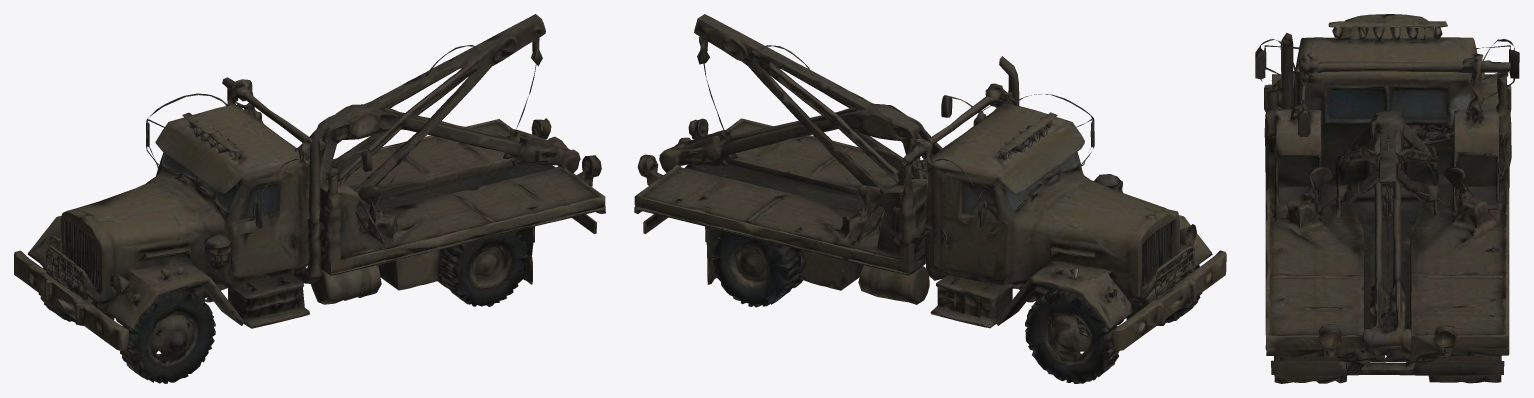
File: car_towtruck_light_q3.glb
3 views of the same model, side by side, from view 1: azimuth 30°, elevation 25°; view 2: azimuth 150°, elevation 25°; view 3: azimuth 270°, elevation 25° (orthographic). The views are drawn at different scales.
Size of the model in its own units: 5.33 by 2.3 by 2.08.
Materials: 1 (1 with a texture image).
